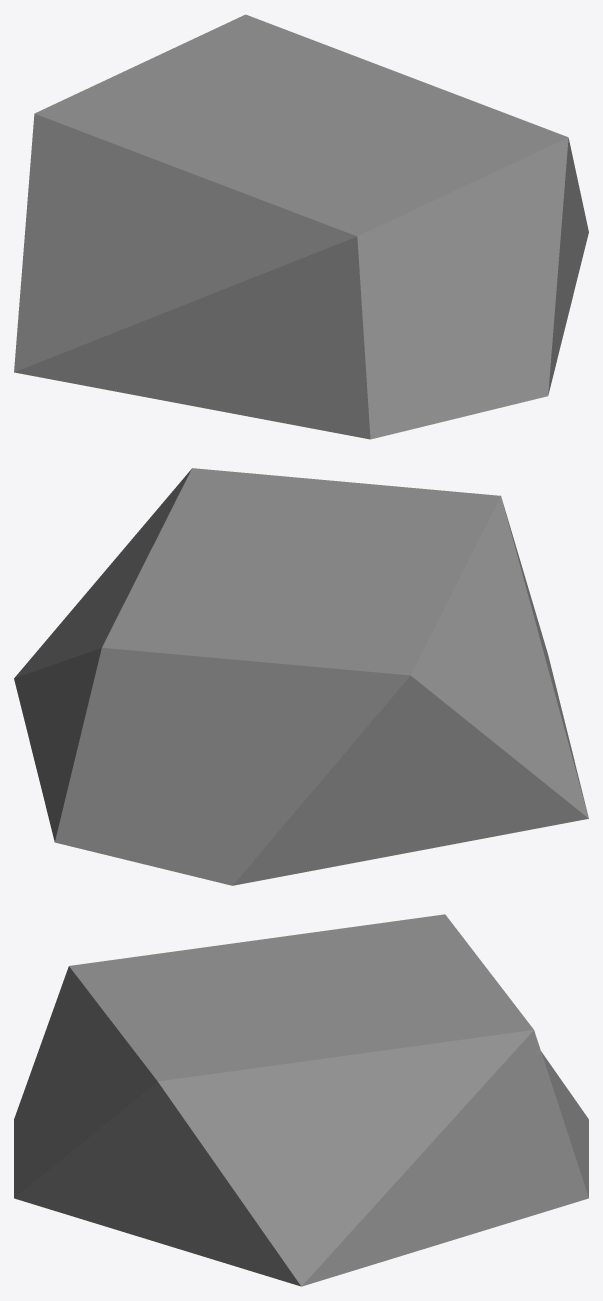
The model's file is Rock 3.fbx.
The picture shows the model from 3 angles, top to bottom: view 1: azimuth 30°, elevation 25°; view 2: azimuth 150°, elevation 25°; view 3: azimuth 270°, elevation 25°; orthographic projection. The views are drawn at different scales.
Visible parts, largest first — view 1: Rock_3; view 2: Rock_3; view 3: Rock_3.
Part boxes in pixels (left/top/right/bottom): Rock_3: left=14, top=14, right=588, bottom=439; Rock_3: left=14, top=468, right=588, bottom=885; Rock_3: left=14, top=914, right=588, bottom=1286.
Bounding box in the file's own units: 53.35 × 15.68 × 50.74.
Materials: 1 (1 with a texture image).
